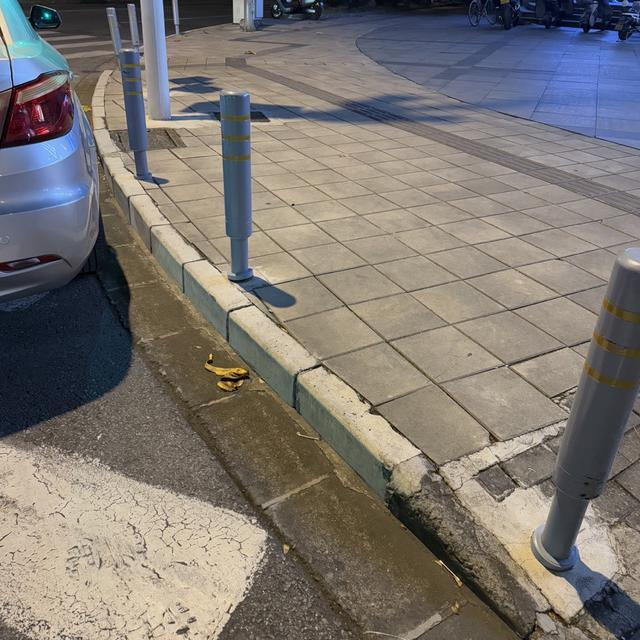curb: (92, 70, 425, 499), (386, 473, 543, 635)
